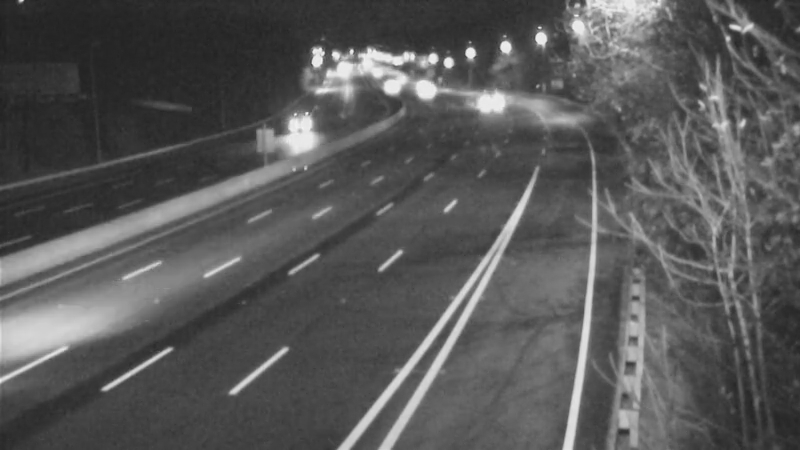vehicle: (399, 60, 449, 110), (362, 63, 412, 113), (405, 69, 455, 119), (459, 83, 509, 133), (279, 99, 329, 149)
